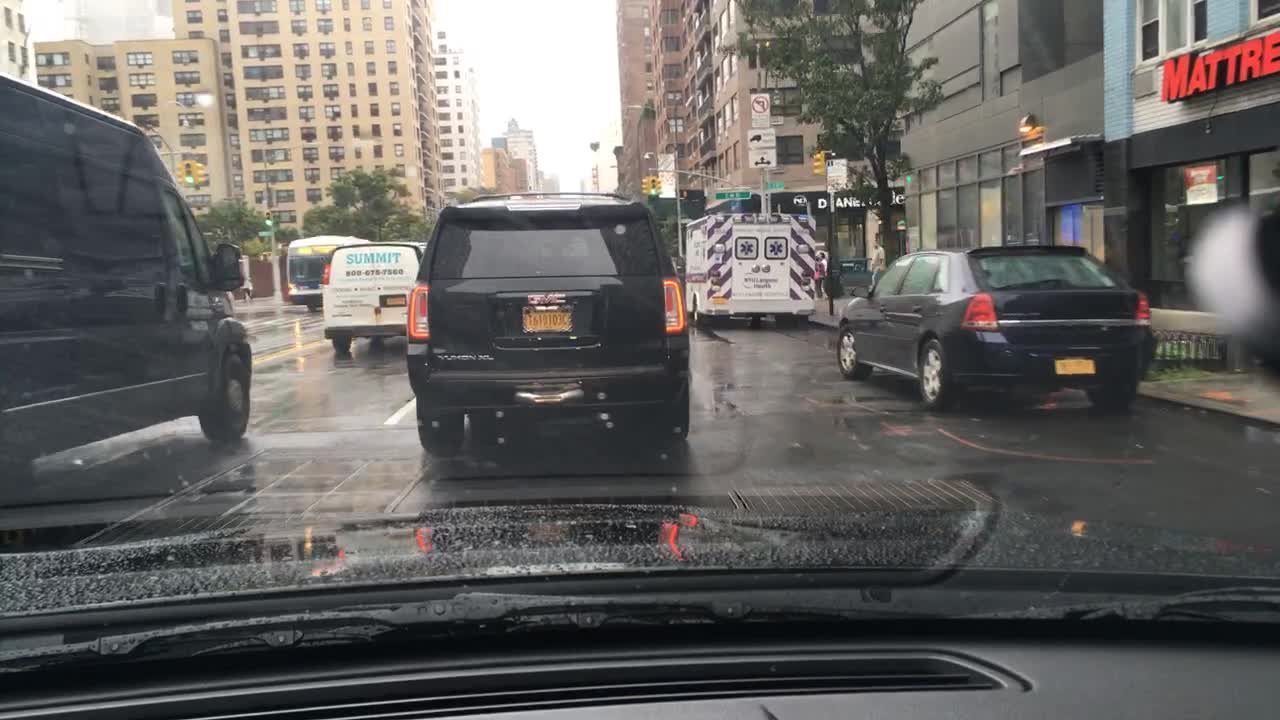car: (1, 72, 255, 466), (402, 189, 695, 452), (836, 240, 1156, 409), (320, 239, 433, 354), (285, 235, 373, 306)
person: (865, 238, 888, 293), (816, 246, 827, 297)
traffic light: (812, 153, 825, 176), (195, 161, 206, 186), (183, 161, 194, 184), (175, 162, 186, 183), (639, 176, 650, 193), (263, 209, 272, 227), (650, 177, 658, 194), (654, 177, 662, 194)
traffic sign: (746, 128, 776, 148), (747, 149, 777, 167), (825, 157, 849, 177), (750, 93, 771, 112), (714, 192, 752, 199), (657, 154, 676, 168), (656, 173, 675, 186), (751, 115, 770, 126), (255, 231, 271, 237), (765, 183, 783, 188)
truck: (681, 212, 819, 328)
